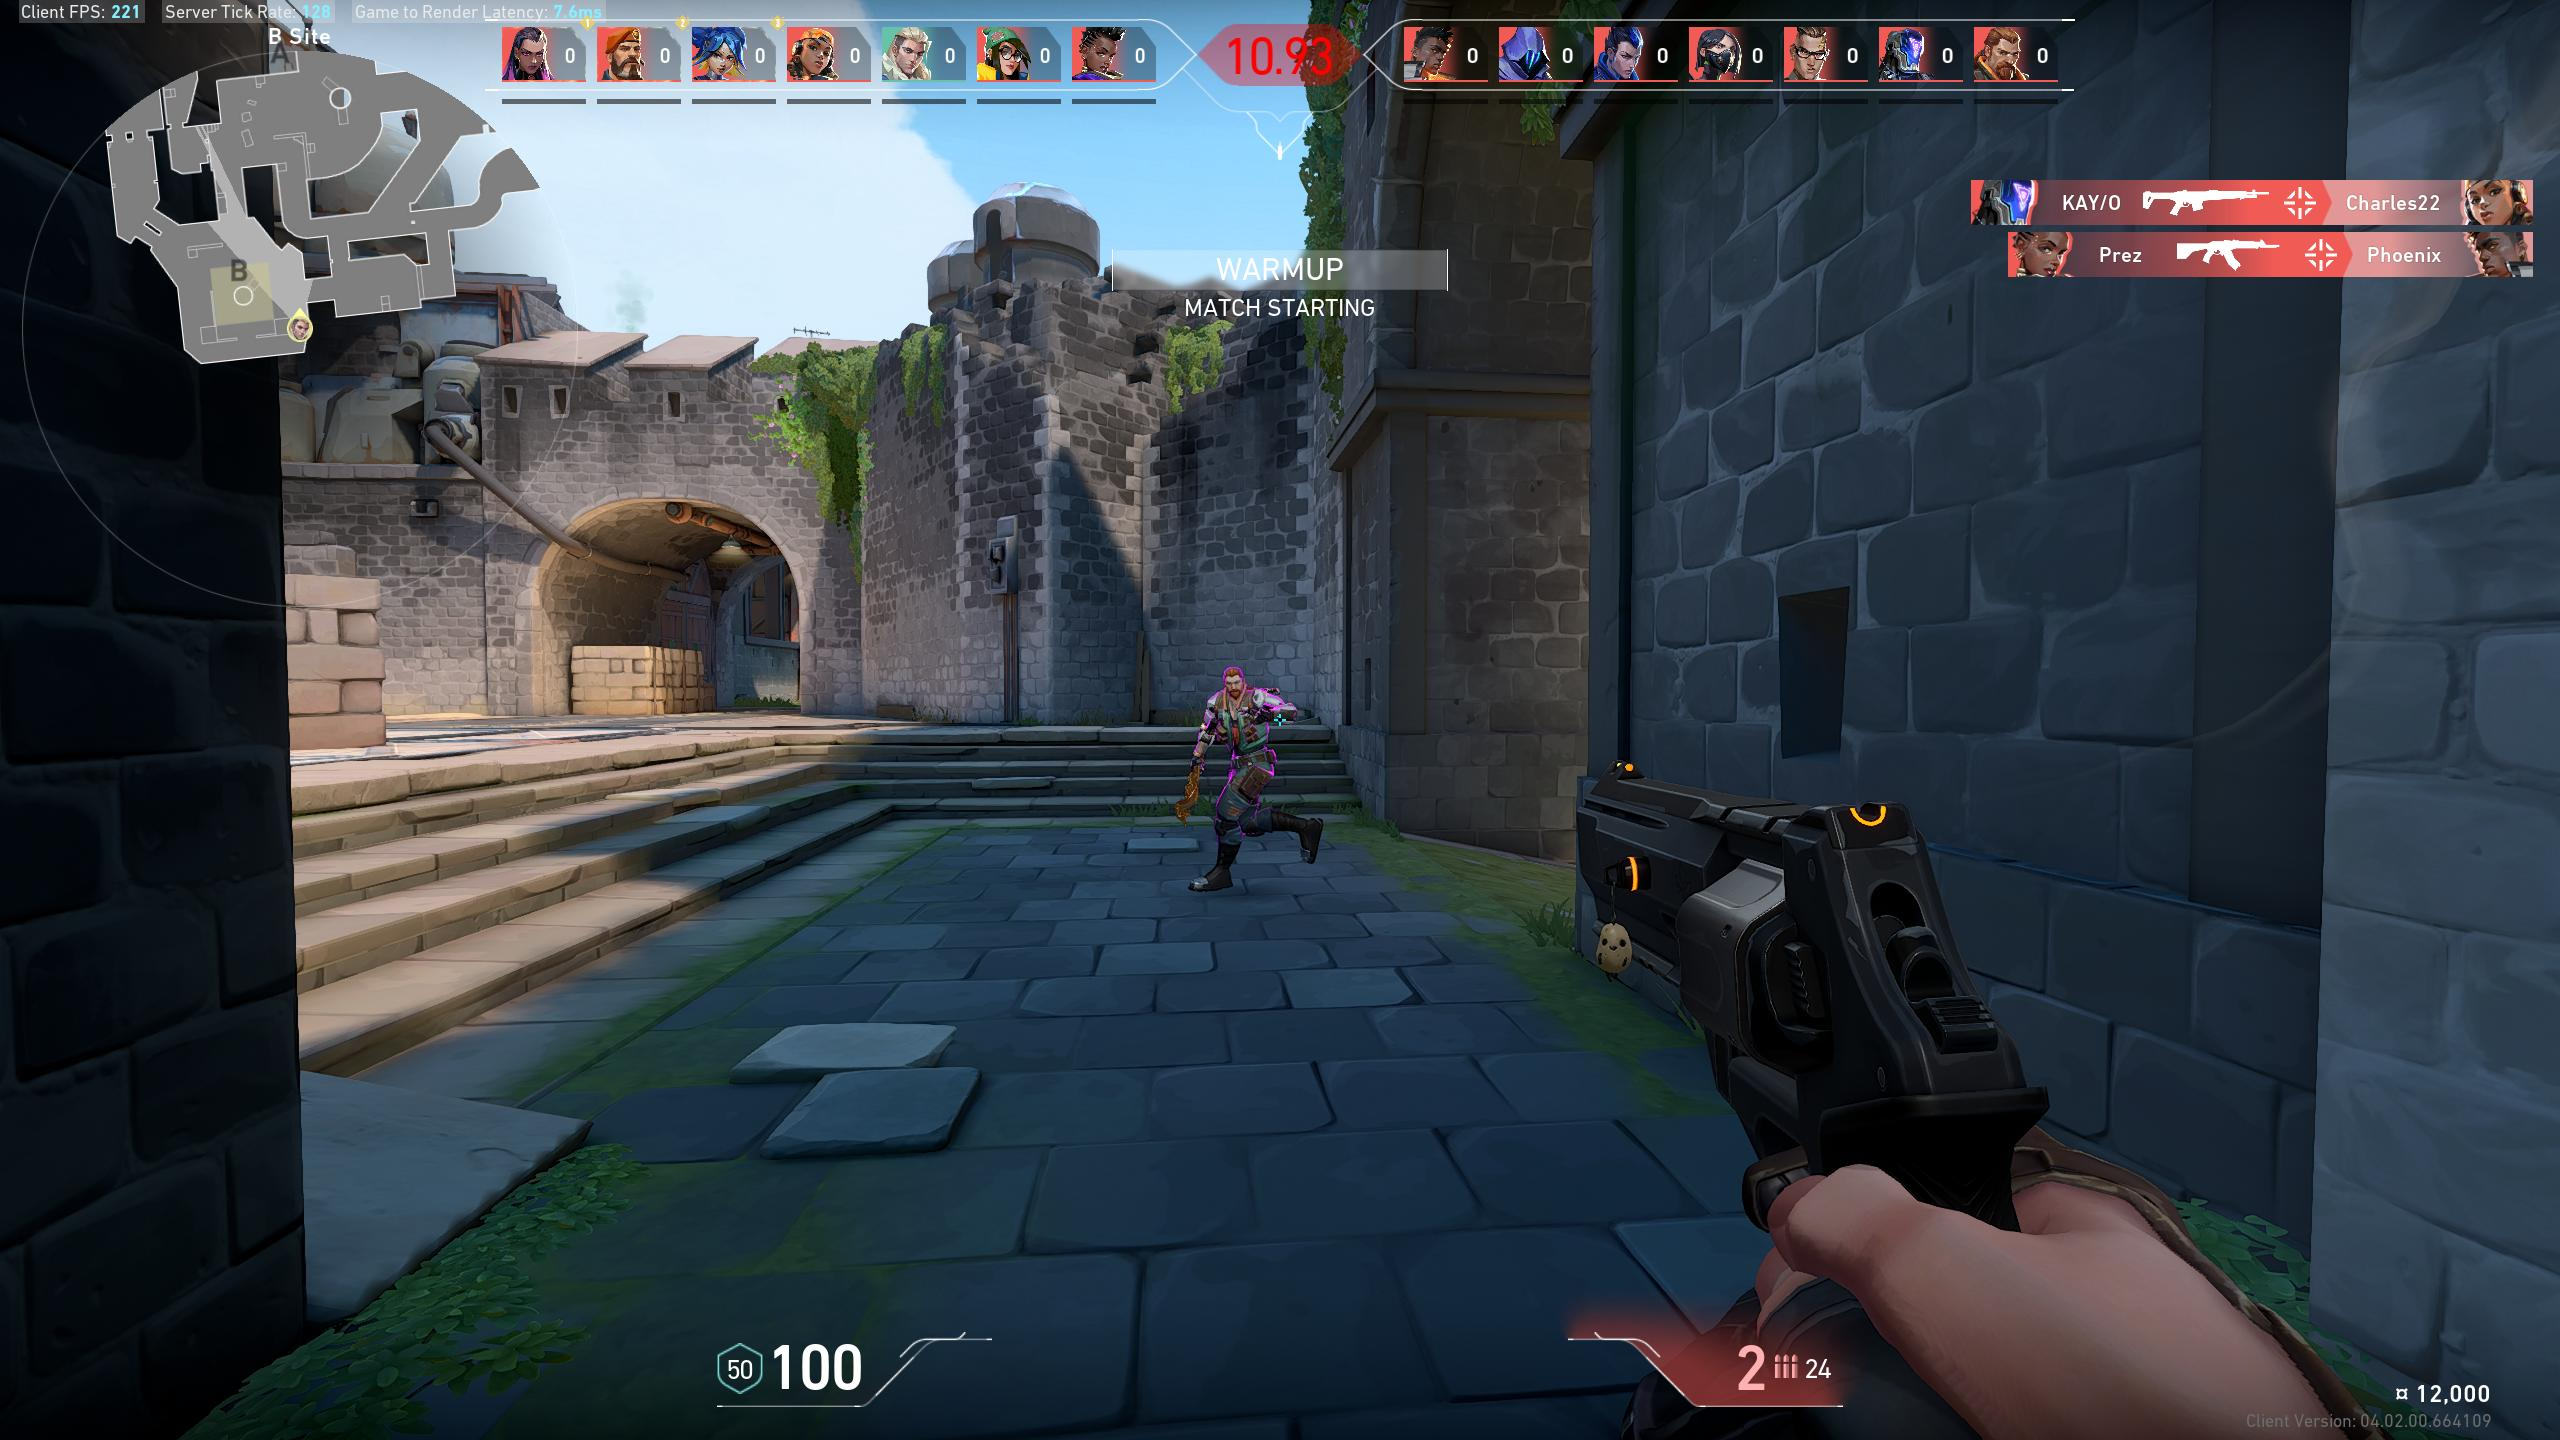enemyBody: (1227, 696, 1261, 753)
enemyHead: (1225, 673, 1241, 693)
